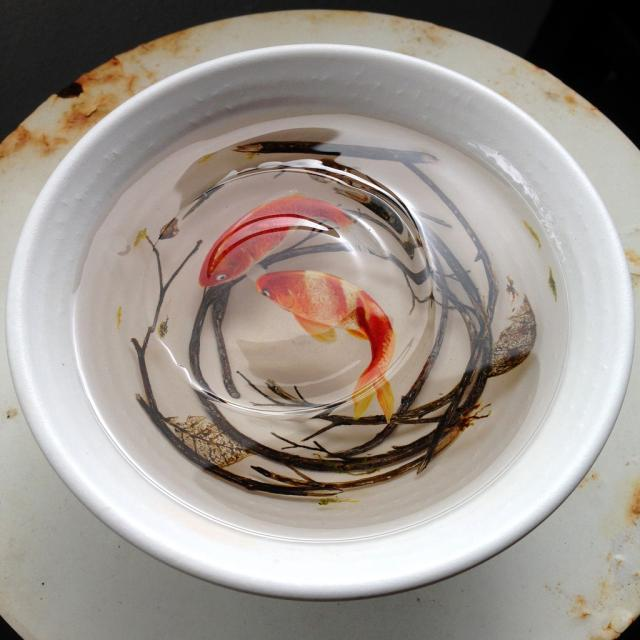non-organic waste: (19, 5, 640, 640)
